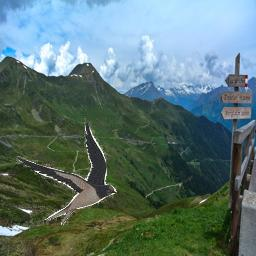Swallow: (16, 122, 117, 225)
